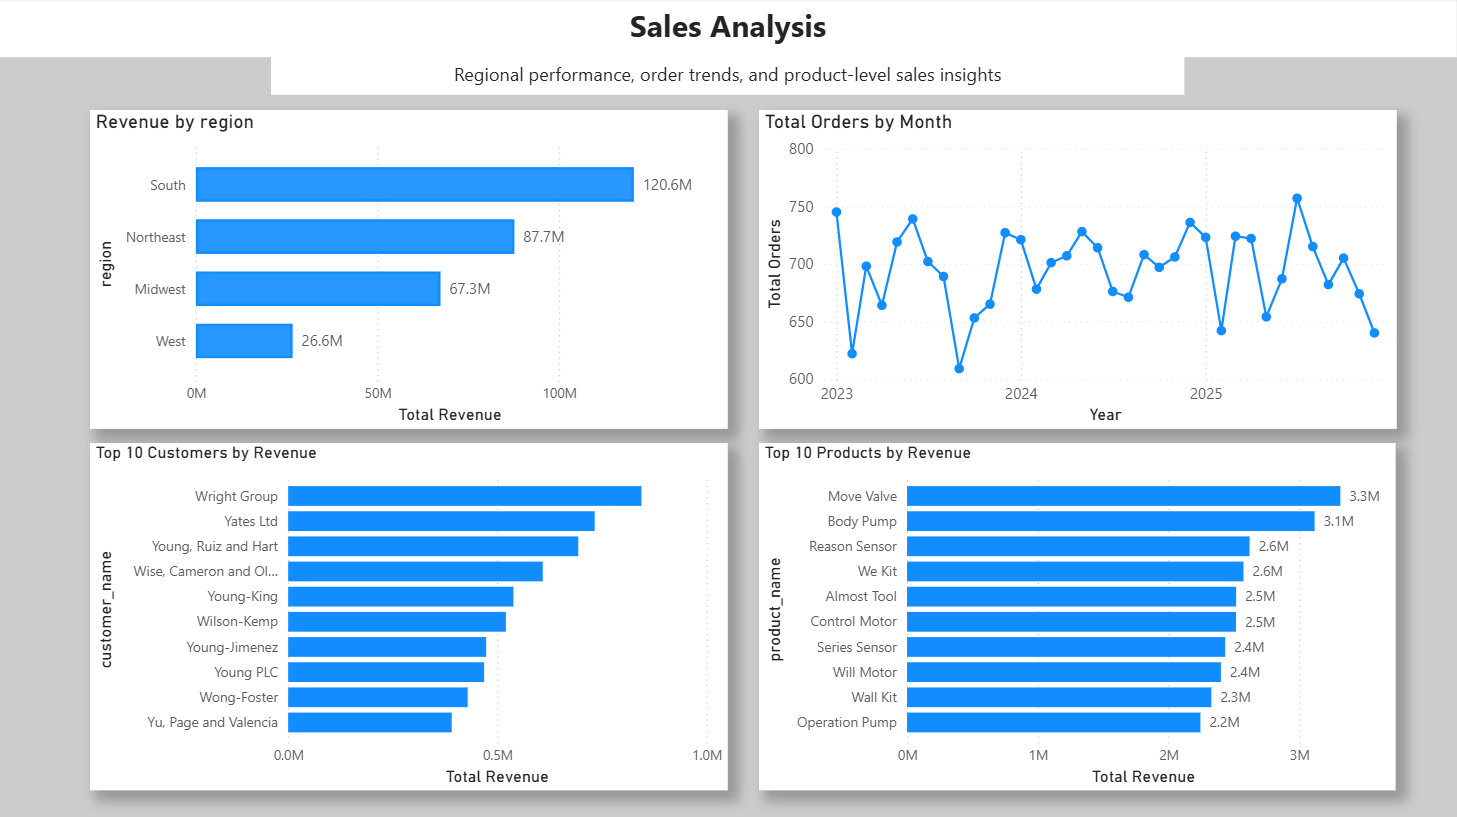

The dashboard page shown, as its layout file describes it:
{"tool":"powerbi","page":{"name":"Sales Analysis","canvas":[1280,720],"ordinal":1},"visuals":[{"type":"clusteredBarChart","title":"Revenue by region","fields":{"Category":["public vw_sales_detail.region"],"Y":["public vw_sales_detail.Total Revenue"]},"box":[79.7,98.5,560.3,280.2],"z":0},{"type":"lineChart","title":"Total Orders by Month","fields":{"Y":["public vw_sales_detail.Total Orders"],"Category":["public vw_sales_detail.Reporting Month.Variation.Date Hierarchy.Year","public vw_sales_detail.Reporting Month.Variation.Date Hierarchy.Quarter","public vw_sales_detail.Reporting Month.Variation.Date Hierarchy.Month","public vw_sales_detail.Reporting Month.Variation.Date Hierarchy.Day"]},"box":[667.7,98.5,560.3,280.2],"z":1000},{"type":"textbox","box":[0,0,1280.4,51.4],"z":2000},{"type":"textbox","box":[239,51,802,34],"z":3000},{"type":"clusteredBarChart","title":"Top 10 Customers by Revenue","fields":{"Category":["public vw_sales_detail.customer_name"],"Y":["public vw_sales_detail.Total Revenue"]},"box":[79.7,391.2,560.3,305.2],"z":3001},{"type":"clusteredBarChart","title":"Top 10 Products by Revenue","fields":{"Category":["public vw_sales_detail.product_name"],"Y":["public vw_sales_detail.Total Revenue"]},"box":[667.7,391.2,559.4,305.2],"z":3002}]}

Visuals, with their boxes in screenshot pixels (x1, y1, x2, y2), scaled from the page's 1280x720 canvas onto the 1457x817 screenshot:
"Revenue by region" clusteredBarChart: box(91, 112, 728, 430)
"Total Orders by Month" lineChart: box(760, 112, 1398, 430)
textbox: box(0, 0, 1456, 58)
textbox: box(272, 58, 1185, 96)
"Top 10 Customers by Revenue" clusteredBarChart: box(91, 444, 728, 790)
"Top 10 Products by Revenue" clusteredBarChart: box(760, 444, 1397, 790)
